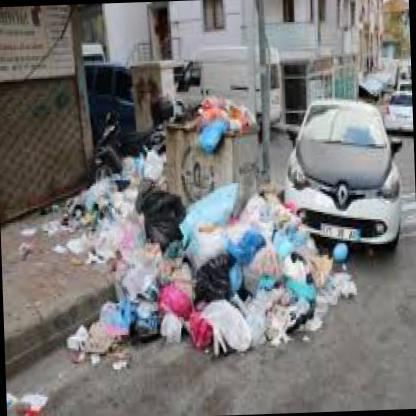Garbage: (252, 204, 296, 321), (58, 314, 126, 378), (179, 174, 240, 238), (132, 190, 188, 252), (110, 240, 162, 304), (174, 95, 258, 130), (269, 283, 309, 352), (303, 268, 355, 320), (229, 300, 266, 368), (136, 292, 188, 338), (179, 307, 220, 356), (78, 176, 113, 230), (271, 251, 309, 300), (162, 268, 198, 310), (97, 216, 129, 263), (251, 228, 280, 276), (54, 229, 96, 260), (195, 120, 230, 155), (12, 383, 49, 415), (121, 159, 142, 207), (44, 206, 72, 240), (143, 145, 167, 182), (298, 240, 312, 264), (197, 98, 207, 121), (218, 104, 233, 118), (18, 243, 28, 259)
